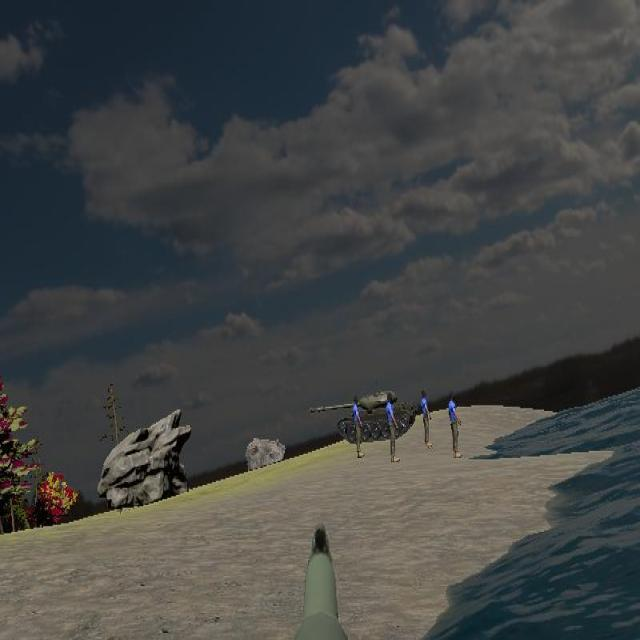Human: (385, 392, 399, 464), (448, 391, 461, 457), (351, 394, 364, 459), (420, 388, 433, 447)
Tank: (308, 388, 418, 444)
